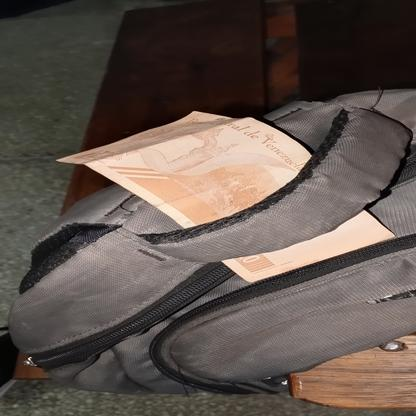twenty-back-vef: (53, 110, 394, 284)
